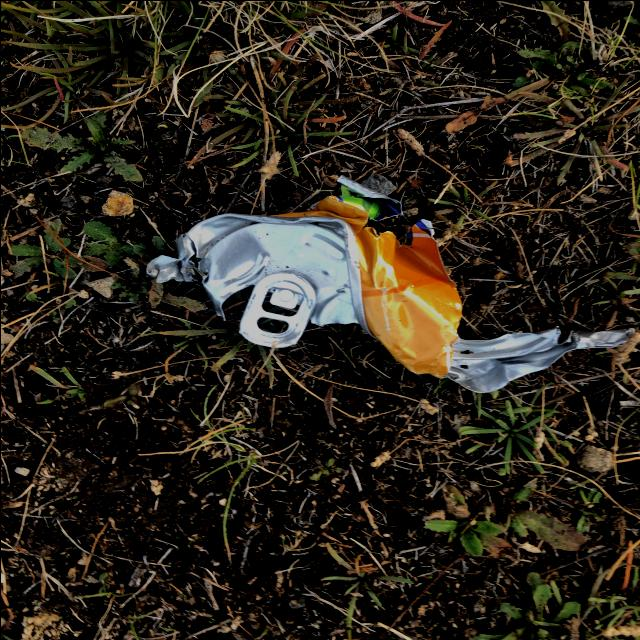Drink can: (145, 174, 635, 392)
Pop tab: (238, 272, 315, 347)
